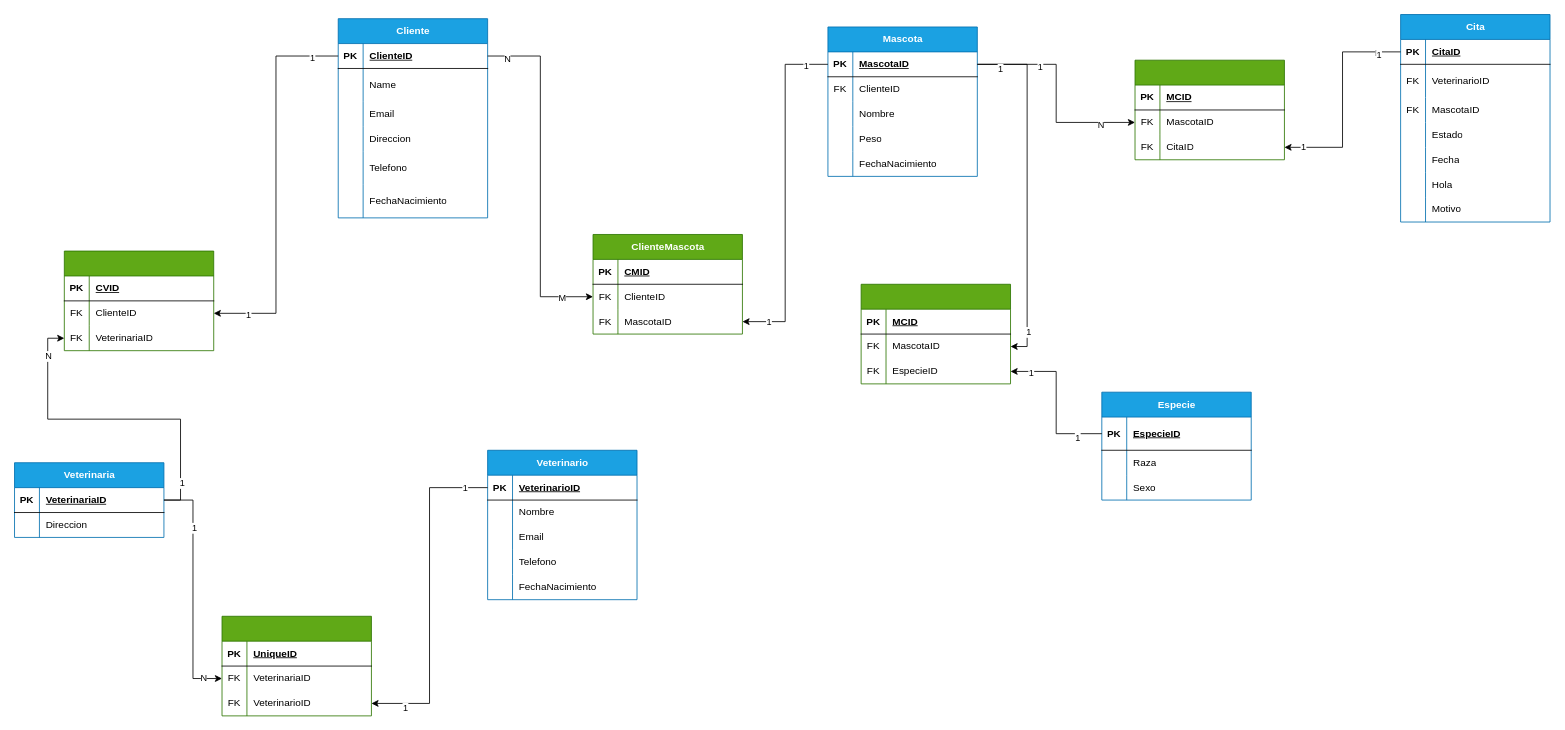
This 1565x730 diagram has some shape labels left out. Here are the shapes that lost their labels. From the top down, the box of each, then its label:
(1134, 59, 1284, 160): MascotaCita
(63, 250, 214, 351): ClienteVeterinaria
(860, 283, 1011, 384): MascotaEspecie
(221, 615, 371, 716): VeterinariaVeterinario
